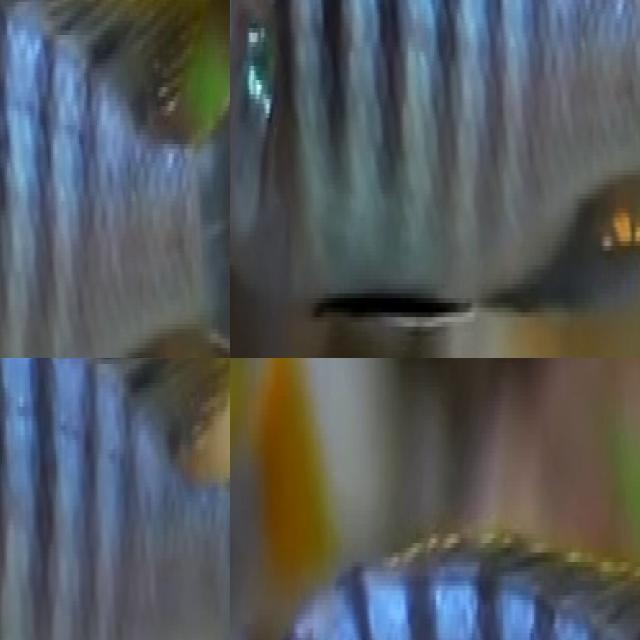fish: (230, 0, 640, 358), (230, 439, 640, 640), (0, 0, 230, 358), (0, 358, 230, 640)
